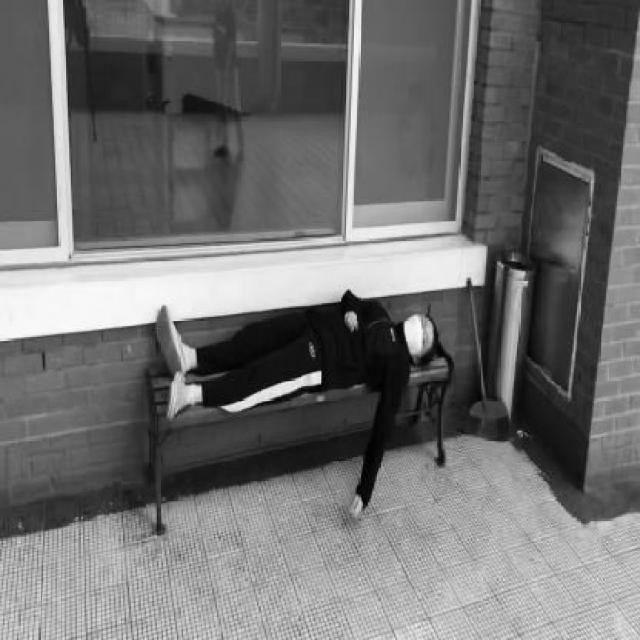person: (152, 294, 440, 520)
